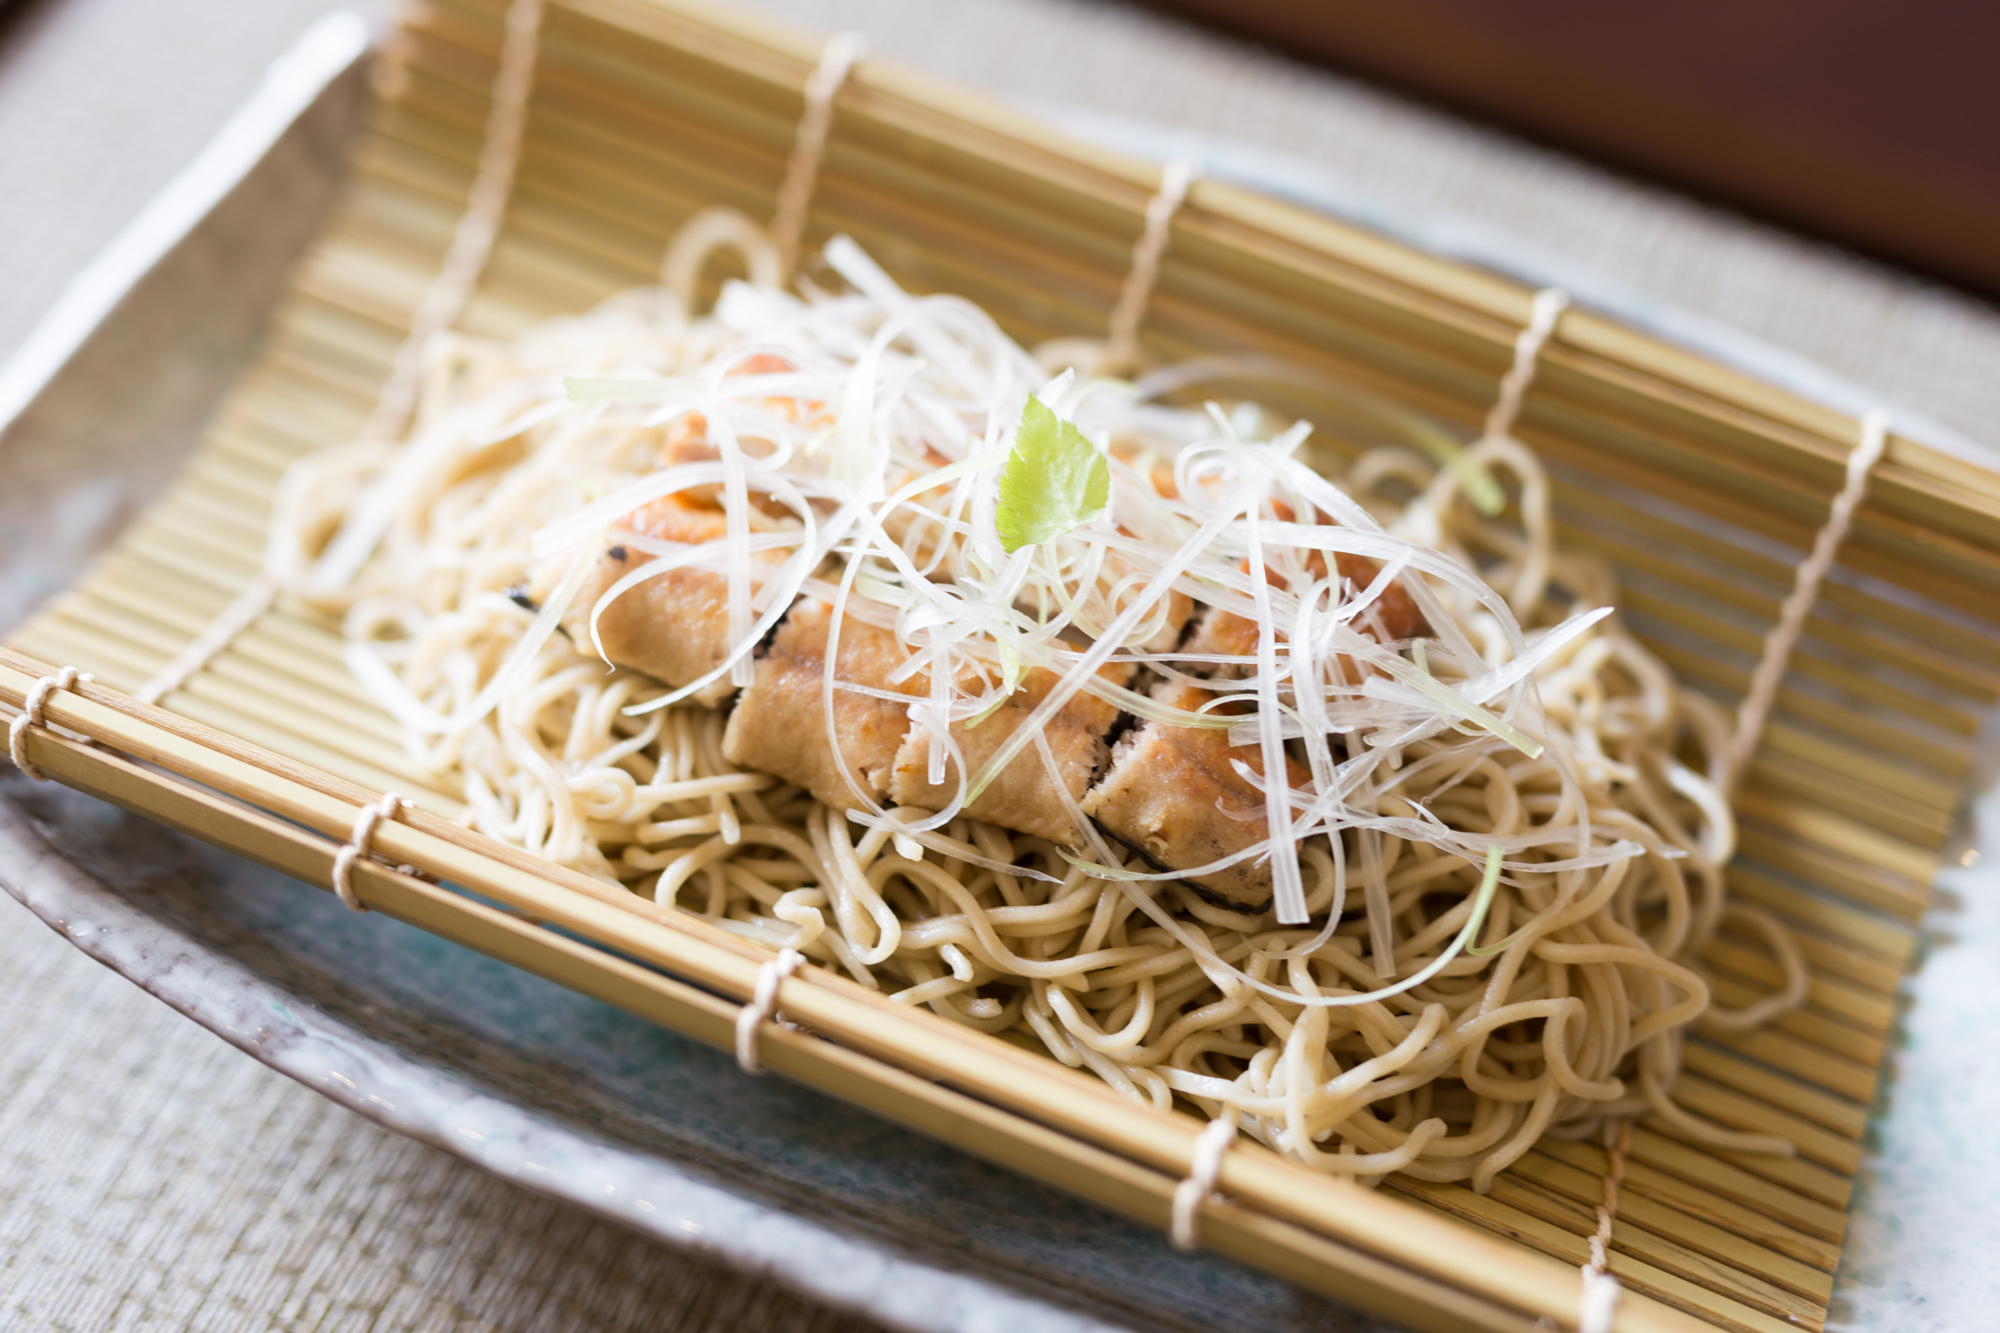Soba: (355, 344, 1735, 1224)
